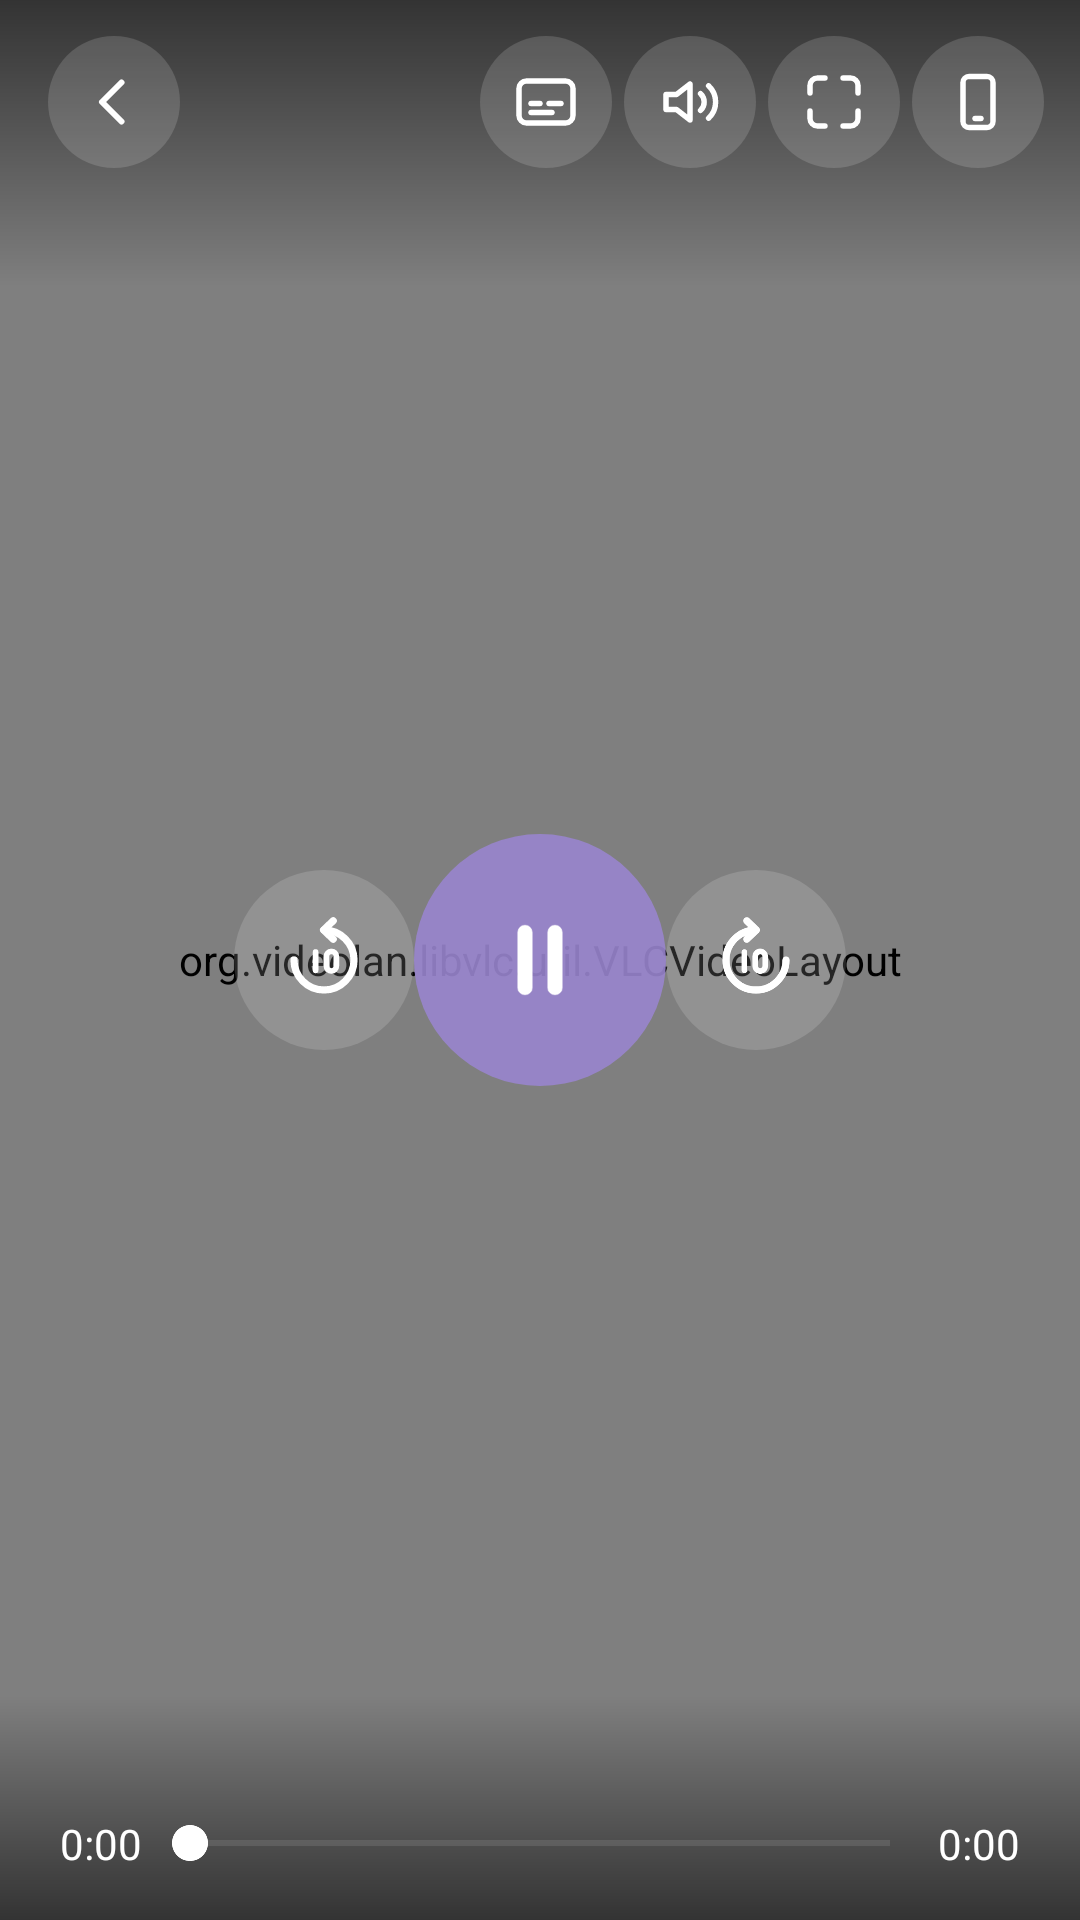

Where to tap for icons on this 1080x1920 app screen, as (x,y):
Aspect: (834,102)
Audio: (690,102)
Back: (114,102)
Play / pause: (540,960)
Rotate: (978,102)
Subtitles: (546,102)
